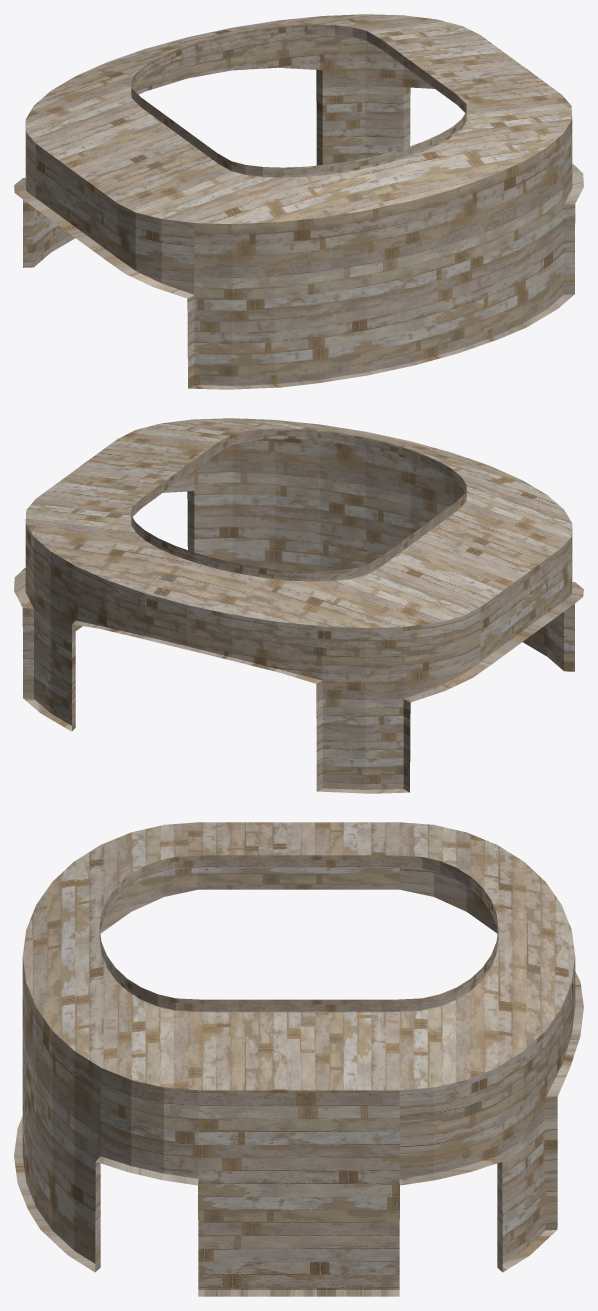
File: Build.fbx
The picture shows the model from 3 angles, top to bottom: view 1: azimuth 30°, elevation 25°; view 2: azimuth 150°, elevation 25°; view 3: azimuth 270°, elevation 25°; orthographic projection. The views are drawn at different scales.
Visible parts, largest first — view 1: Cylinder.001; view 2: Cylinder.001; view 3: Cylinder.001.
Part boxes in pixels (x1,y1,x2,y2): Cylinder.001: (14, 14, 583, 389); Cylinder.001: (14, 418, 583, 793); Cylinder.001: (14, 822, 583, 1296).
Size of the model in its own units: 969 by 367 by 830.
Materials: 1 (1 with a texture image).
